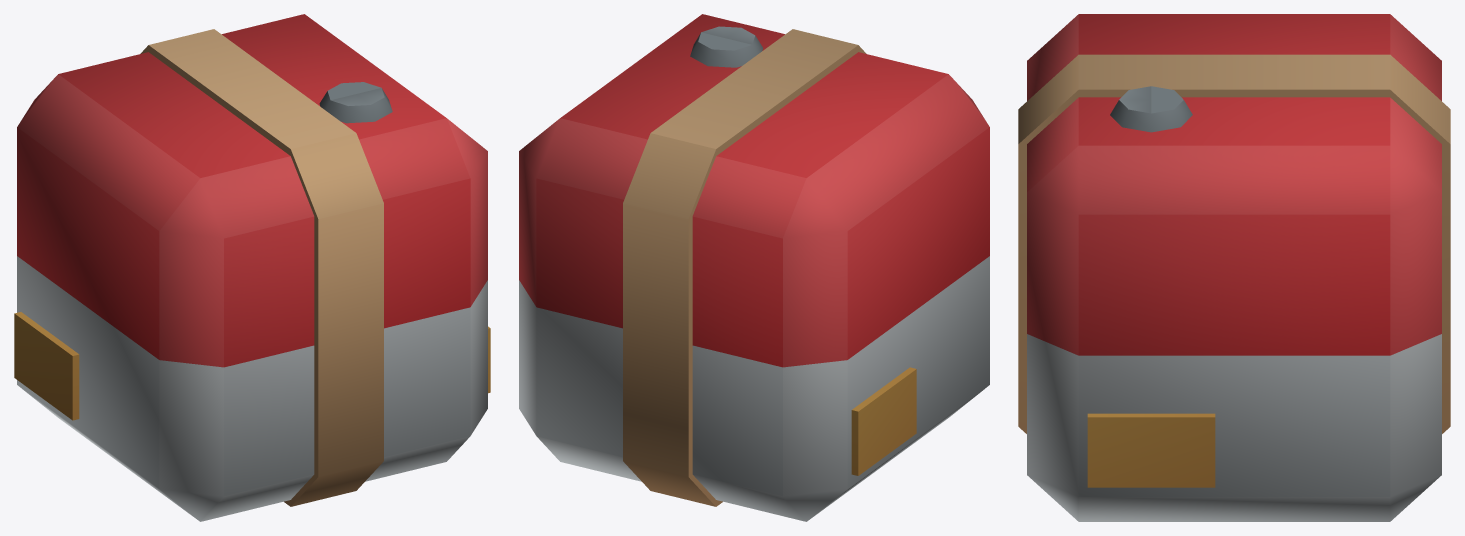
The model's file is space-cargo-a-packed.glb.
3 renders of one model, left to right at view 1: azimuth 30°, elevation 25°; view 2: azimuth 150°, elevation 25°; view 3: azimuth 270°, elevation 25°, orthographic. The views are drawn at different scales.
Parts seen in each view (by area): view 1: cargo_A_packed; view 2: cargo_A_packed; view 3: cargo_A_packed.
Boxes of the visible parts, box(x1,y1,x2,y2) form: cargo_A_packed: box(14, 14, 490, 521); cargo_A_packed: box(519, 14, 989, 521); cargo_A_packed: box(1018, 14, 1450, 521).
Size of the model in its own units: 0.5205 by 0.5303 by 0.5205.
